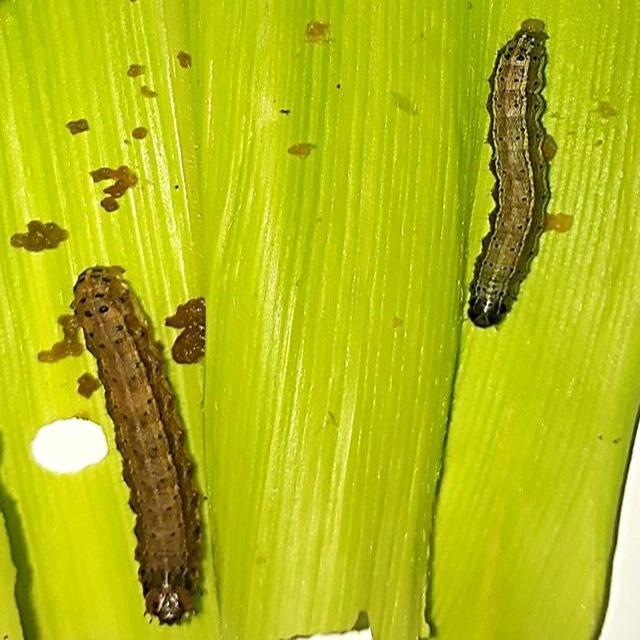gusano_cogollero: (72, 267, 205, 625), (465, 21, 553, 326)
